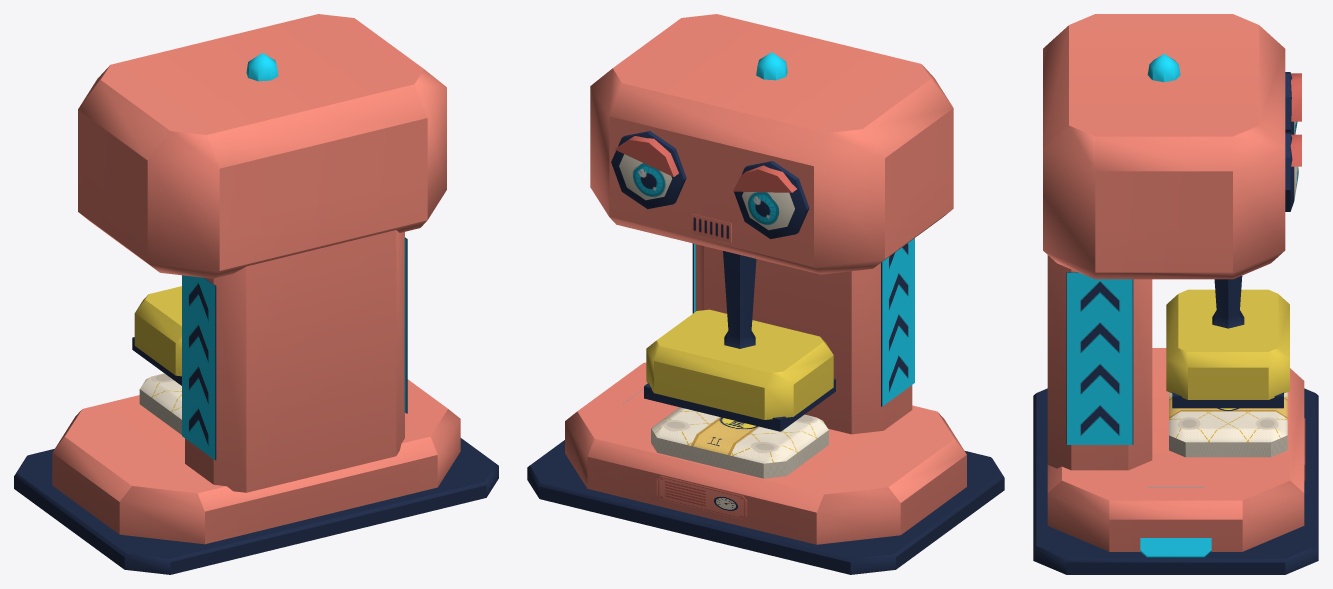
The model's file is machine_reception_stamp_lod1.glb.
3 views of the same model, side by side, from view 1: azimuth 30°, elevation 25°; view 2: azimuth 150°, elevation 25°; view 3: azimuth 270°, elevation 25° (orthographic).
Visible parts, largest first — view 1: machine_reception_stamp_LOD1; view 2: machine_reception_stamp_LOD1; view 3: machine_reception_stamp_LOD1.
Part boxes in pixels (x1,y1,x2,y2): machine_reception_stamp_LOD1: [14, 14, 498, 574]; machine_reception_stamp_LOD1: [527, 14, 1004, 574]; machine_reception_stamp_LOD1: [1033, 14, 1318, 574].
Size of the model in its own units: 18 by 20 by 12.
Materials: 1 (1 with a texture image).
